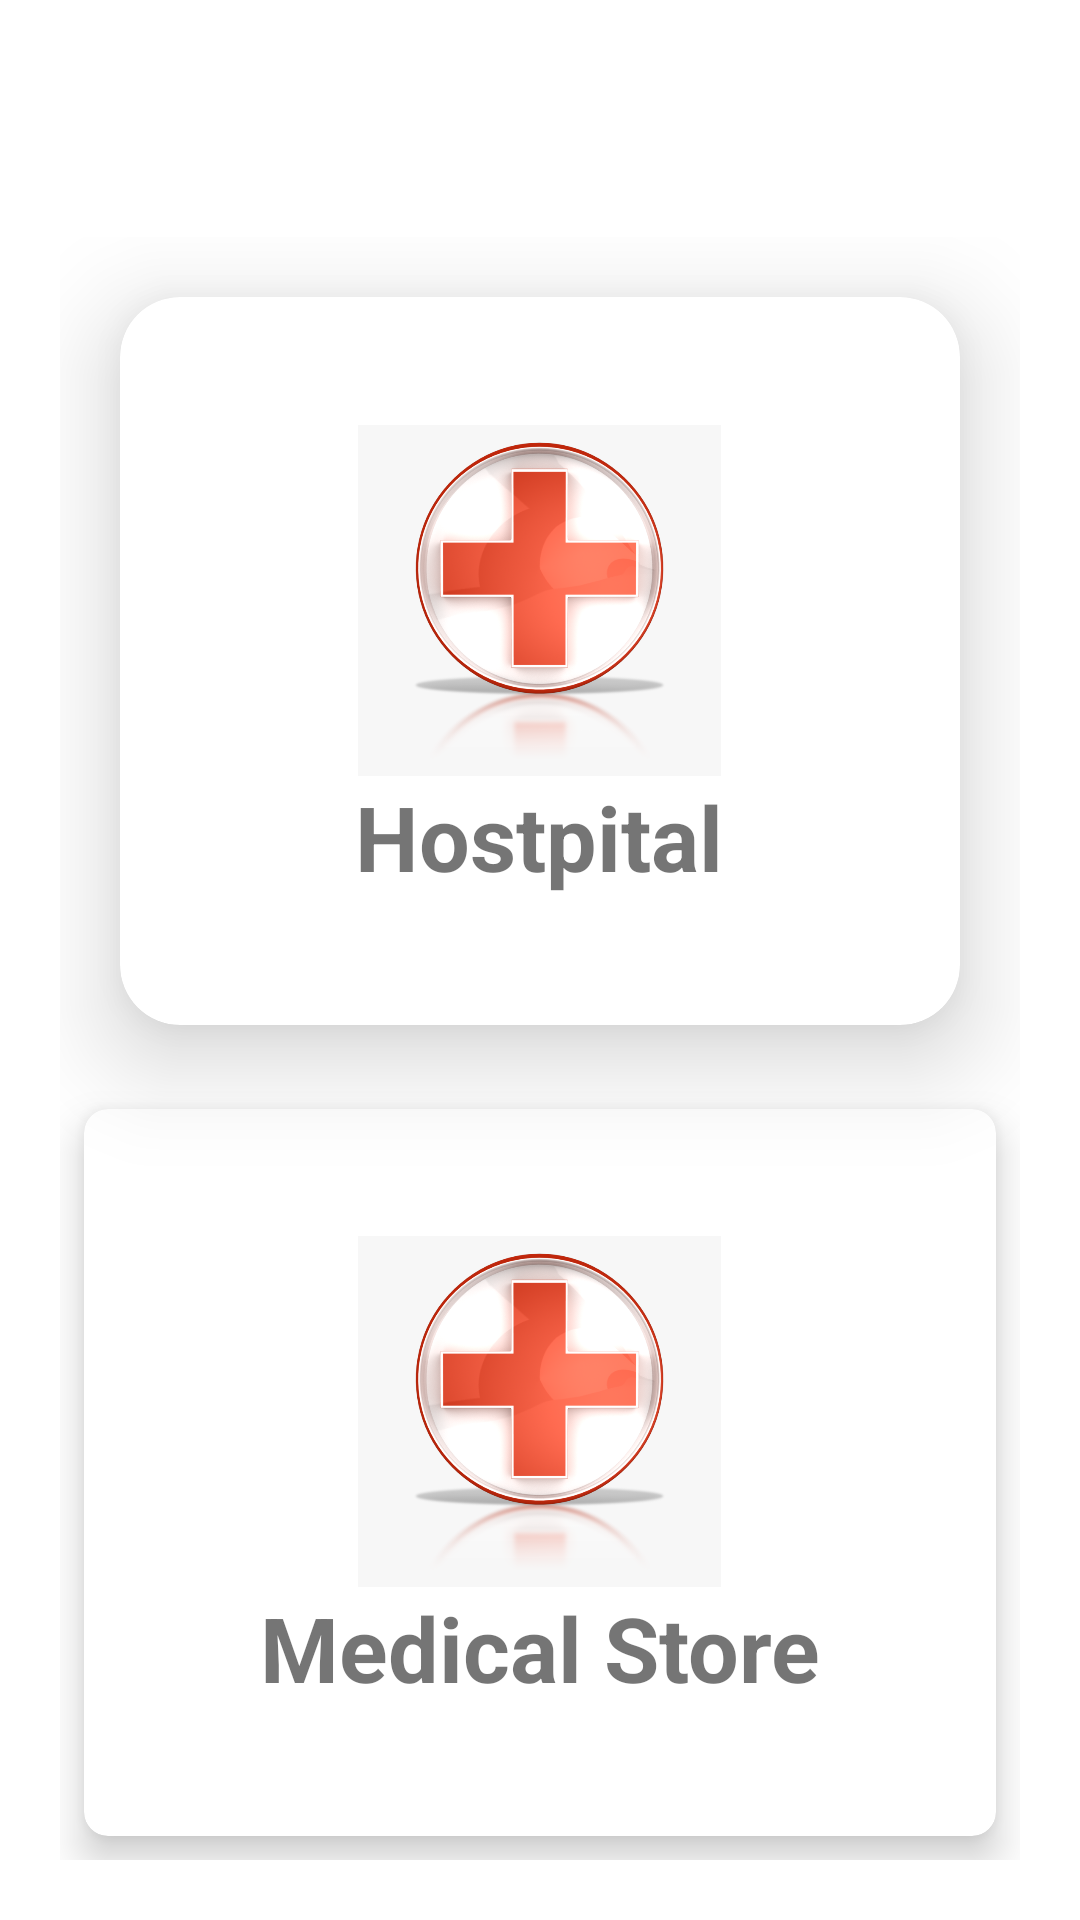

Named icons in this screenshot (1080×1920) and their bounding boxes, (x1, y1, x2, y2):
health: (415, 442, 664, 743), (415, 1253, 664, 1554)
